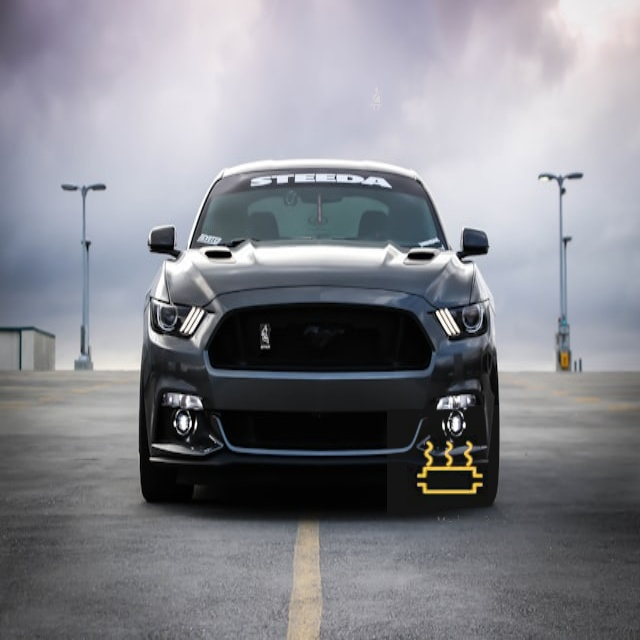symbol: (301, 30, 452, 181), (387, 405, 513, 531)
